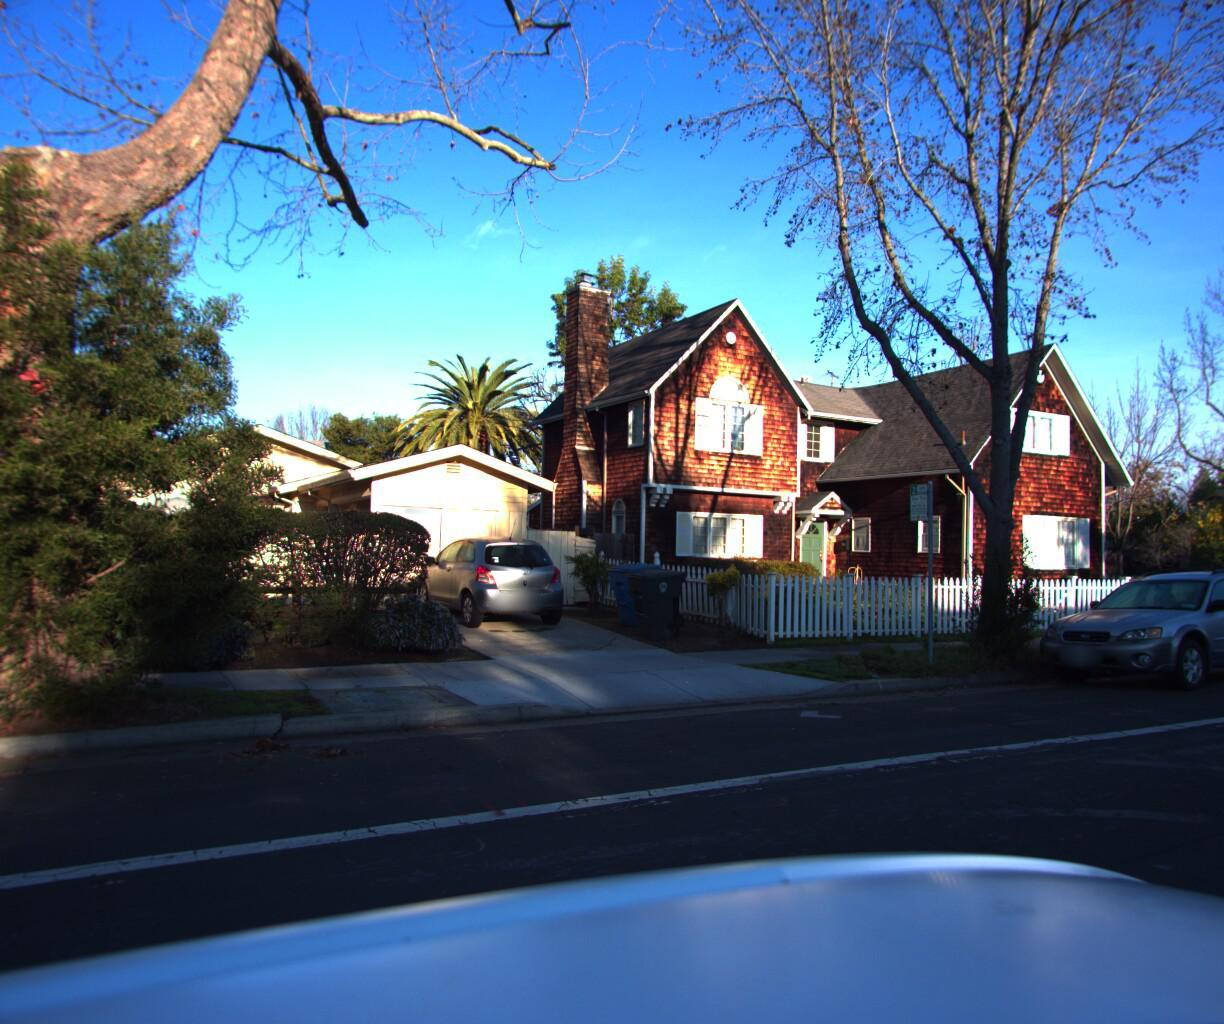car: (1008, 558, 1224, 704), (410, 528, 578, 631)
